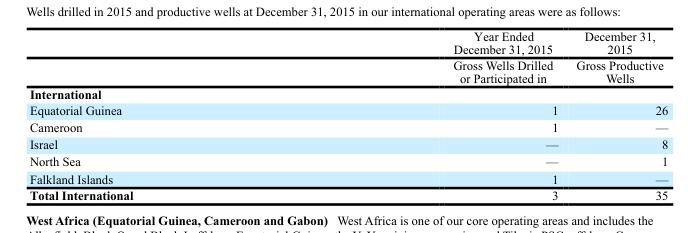table: (28, 28, 667, 201)
table column: (292, 28, 566, 201), (28, 28, 292, 201), (566, 28, 667, 201)
table column header: (28, 28, 667, 85)
table projected row header: (28, 85, 667, 101)
table row: (28, 28, 667, 85), (28, 101, 667, 118), (28, 118, 667, 135), (28, 135, 667, 152), (28, 152, 667, 169), (28, 169, 667, 186), (28, 85, 667, 101), (28, 186, 667, 201)
